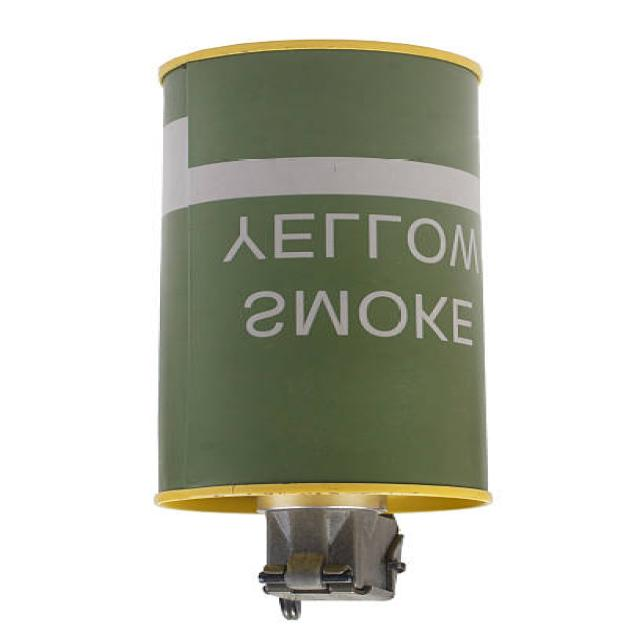grenade: (141, 37, 506, 625)
